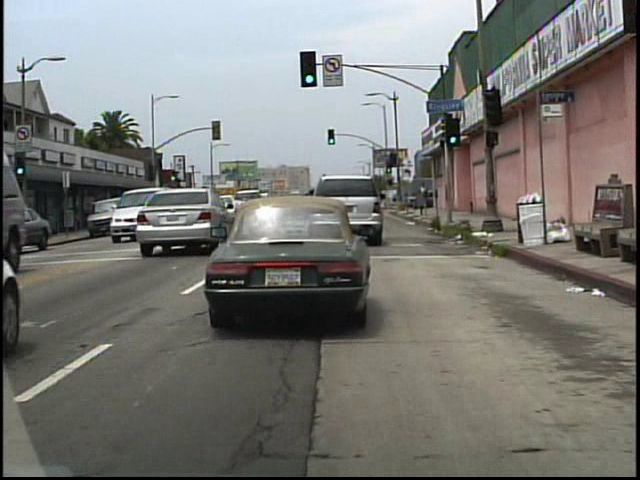person: (416, 182, 430, 210)
